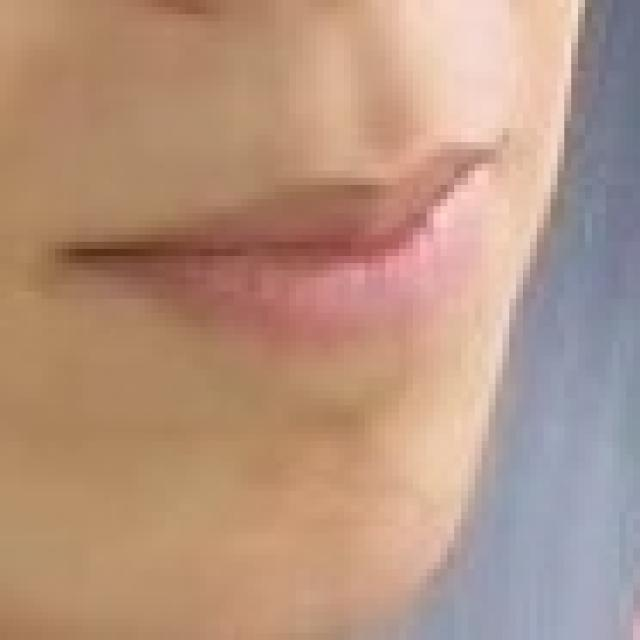closed-mouth: (48, 128, 509, 354)
